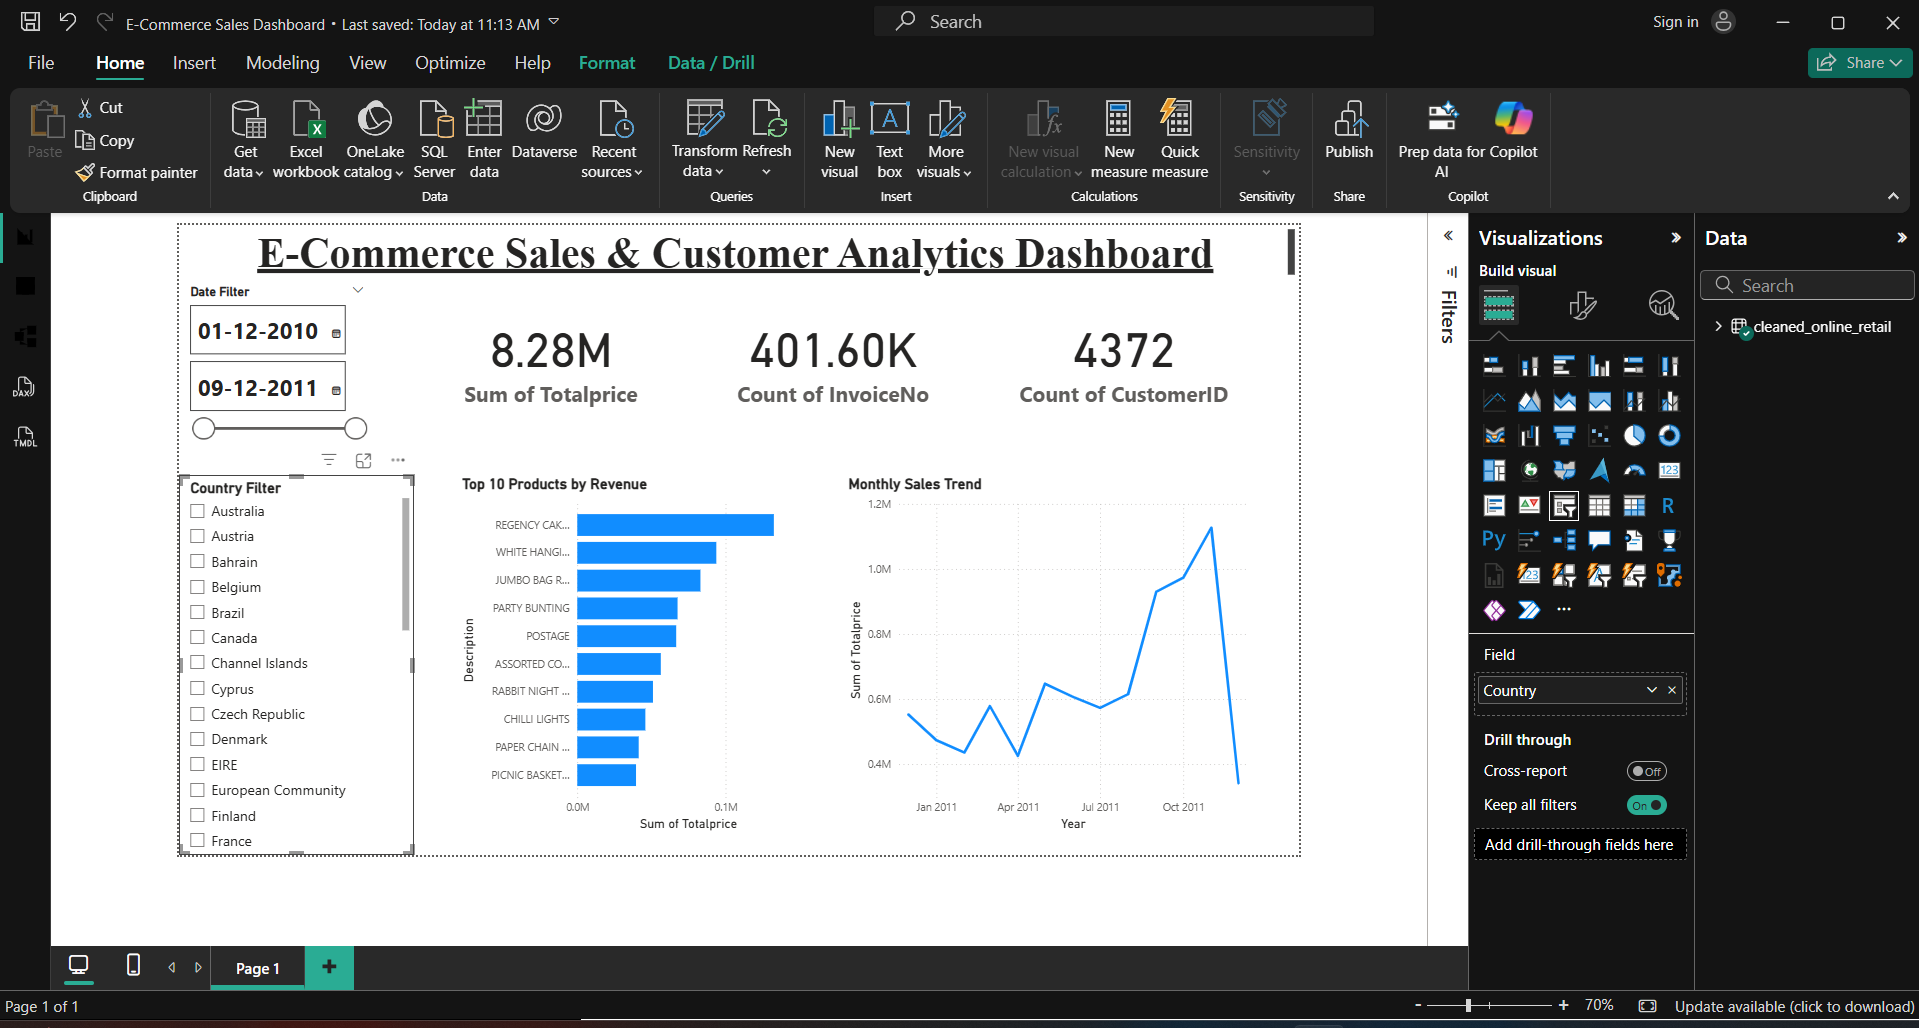

What the dashboard file says about the page in this screenshot:
{"tool":"powerbi","page":{"name":"Page 1","canvas":[1280,720],"ordinal":0},"visuals":[{"type":"lineChart","title":"Monthly Sales Trend","fields":{"Category":["cleaned_online_retail.InvoiceDate.Variation.Date Hierarchy.Year","cleaned_online_retail.InvoiceDate.Variation.Date Hierarchy.Quarter","cleaned_online_retail.InvoiceDate.Variation.Date Hierarchy.Month","cleaned_online_retail.InvoiceDate.Variation.Date Hierarchy.Day"],"Y":["Sum(cleaned_online_retail.Totalprice)"]},"box":[760,285,480,411.7],"z":0},{"type":"clusteredBarChart","title":"Top 10 Products by Revenue","fields":{"Category":["cleaned_online_retail.Description"],"Y":["Sum(cleaned_online_retail.Totalprice)"]},"box":[318.3,285,410,411.7],"z":1000},{"type":"card","title":"Total Revenue","fields":{"Values":["Sum(cleaned_online_retail.Totalprice)"]},"box":[268.3,63.3,313.3,180],"z":1001},{"type":"card","title":"Total Orders","fields":{"Values":["CountNonNull(cleaned_online_retail.InvoiceNo)"]},"box":[598.3,63.3,298.3,180],"z":1002},{"type":"card","title":"Total Customers","fields":{"Values":["Count(cleaned_online_retail.CustomerID)"]},"box":[920,63.3,320,180],"z":1003},{"type":"slicer","fields":{"Values":["cleaned_online_retail.Country"]},"box":[0,285,268.3,435],"z":1004},{"type":"slicer","fields":{"Values":["cleaned_online_retail.InvoiceDate"]},"box":[0,63.3,223.3,201.7],"z":1005},{"type":"textbox","box":[0,0,1280,63.3],"z":1006}]}

Visuals, with their boxes on the page's 1280x720 design canvas (x1, y1, x2, y2). These are canvas units, not pixel positions in the 1919x1028 screenshot, which may show the page scaled, cropped or inside an application window:
"Monthly Sales Trend" lineChart: bbox(760, 285, 1240, 697)
"Top 10 Products by Revenue" clusteredBarChart: bbox(318, 285, 728, 697)
"Total Revenue" card: bbox(268, 63, 582, 243)
"Total Orders" card: bbox(598, 63, 897, 243)
"Total Customers" card: bbox(920, 63, 1240, 243)
slicer - cleaned_online_retail.Country: bbox(0, 285, 268, 720)
slicer - cleaned_online_retail.InvoiceDate: bbox(0, 63, 223, 265)
textbox: bbox(0, 0, 1280, 63)
